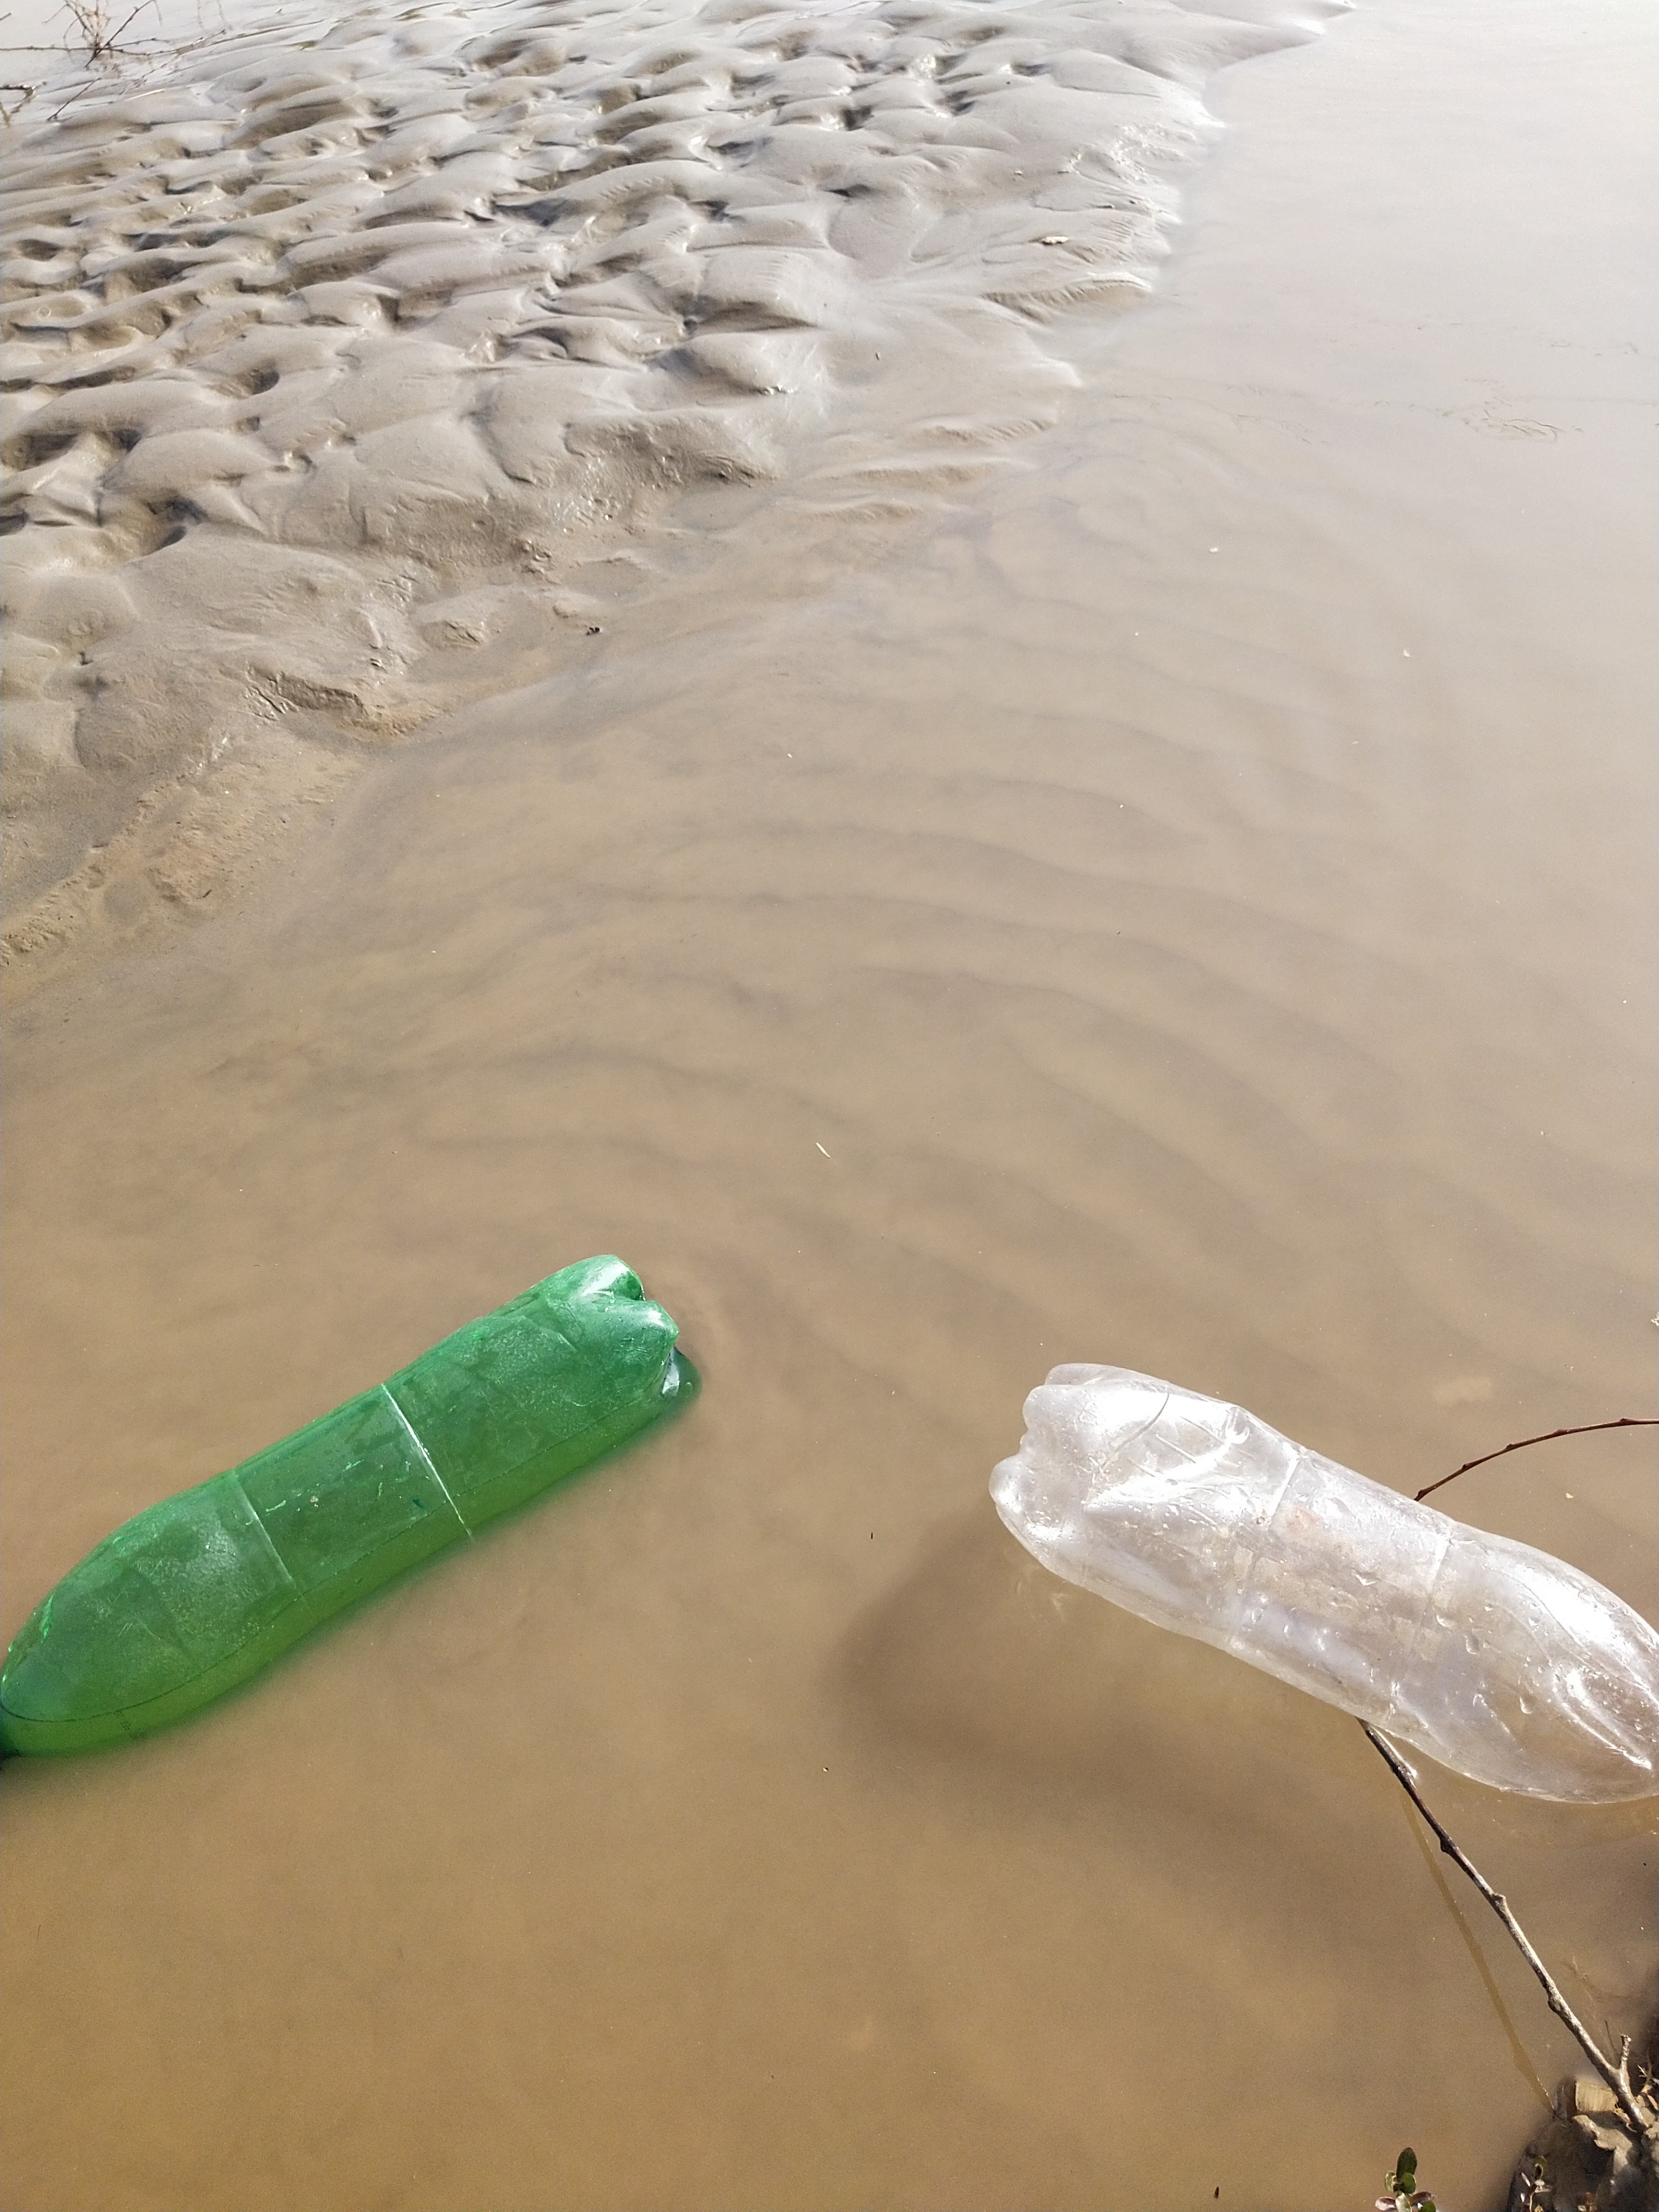Plastic Bottle: (2, 1249, 701, 1764), (988, 1362, 1654, 1804)
